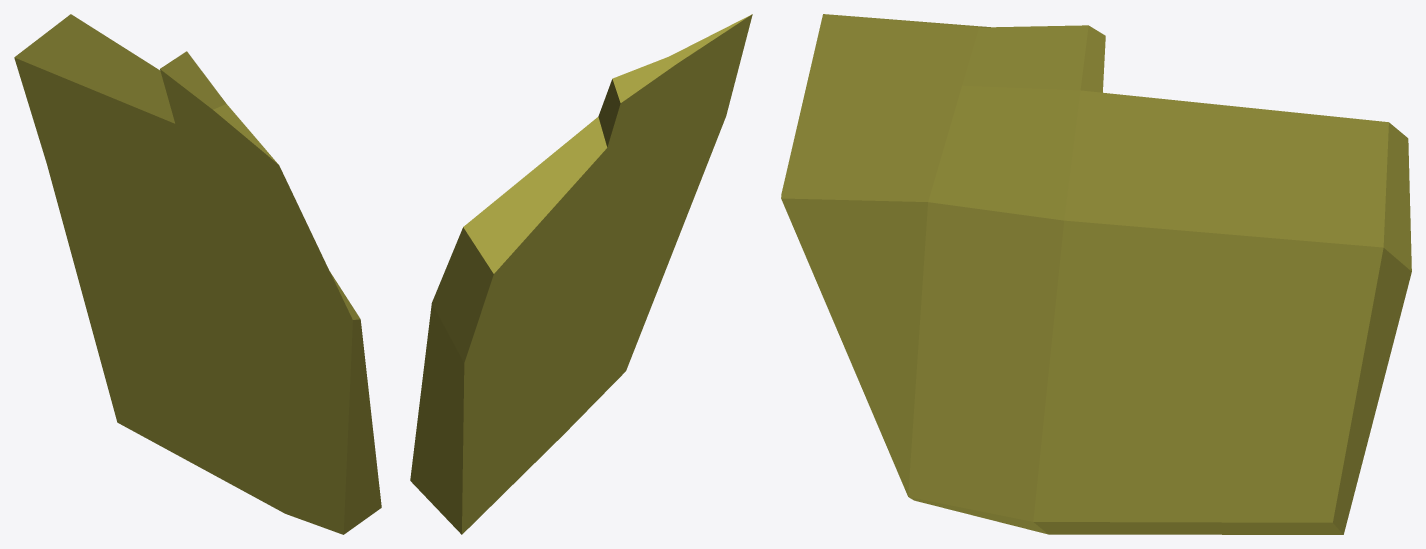
Rendered from ala_der.obj.
3 renders of one model, left to right at view 1: azimuth 30°, elevation 25°; view 2: azimuth 150°, elevation 25°; view 3: azimuth 270°, elevation 25°, orthographic. The views are drawn at different scales.
Parts seen in each view (by area): view 1: ave_ala_izq; view 2: ave_ala_izq; view 3: ave_ala_izq.
Boxes of the visible parts, x1,y1,x2,y2 form: ave_ala_izq: (14, 14, 381, 534); ave_ala_izq: (410, 14, 752, 534); ave_ala_izq: (781, 14, 1411, 534).
Bounding box in the file's own units: 0.1785 × 0.4942 × 0.5867.
Materials: 1 (1 with a texture image).
